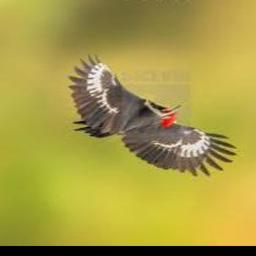Woodpecker: (67, 54, 238, 177)
